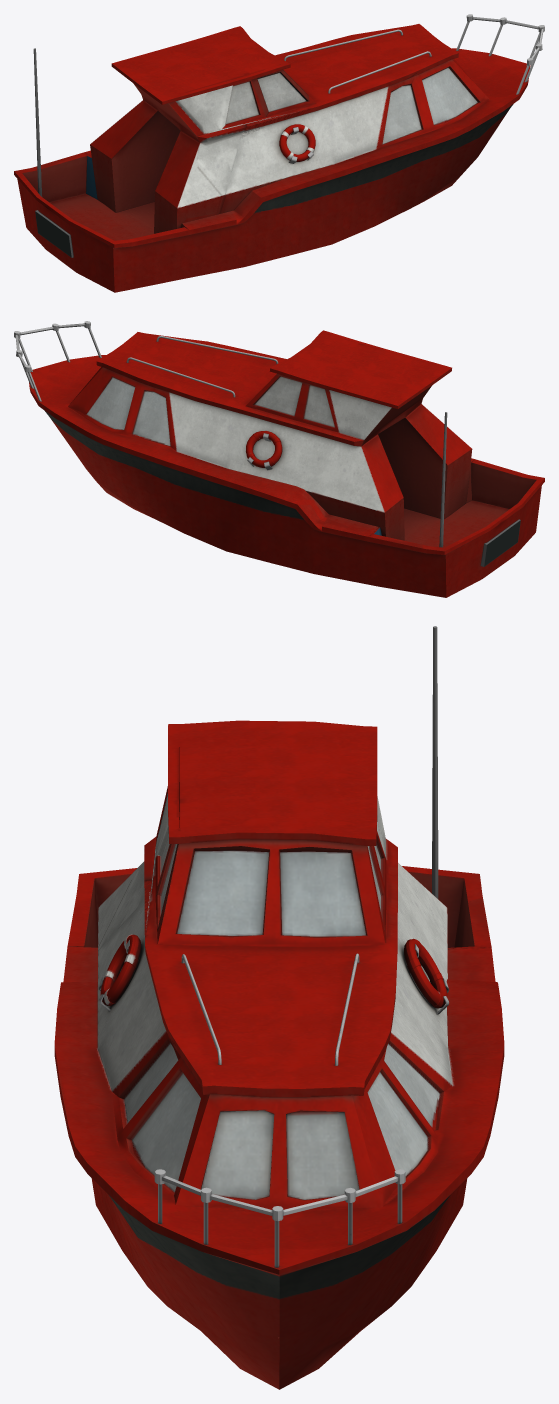
File: SmallBoat2.fbx
3 views of the same model, one above another, from view 1: azimuth 30°, elevation 25°; view 2: azimuth 150°, elevation 25°; view 3: azimuth 270°, elevation 25° (orthographic). The views are drawn at different scales.
Parts seen in each view (by area): view 1: SmallBoat2:mesh; view 2: SmallBoat2:mesh; view 3: SmallBoat2:mesh.
Boxes of the visible parts, box(x1,y1,x2,y2) form: SmallBoat2:mesh: box(14, 14, 544, 292); SmallBoat2:mesh: box(14, 321, 544, 597); SmallBoat2:mesh: box(54, 626, 504, 1389).
Bounding box in the file's own units: 987 × 391 × 391.
